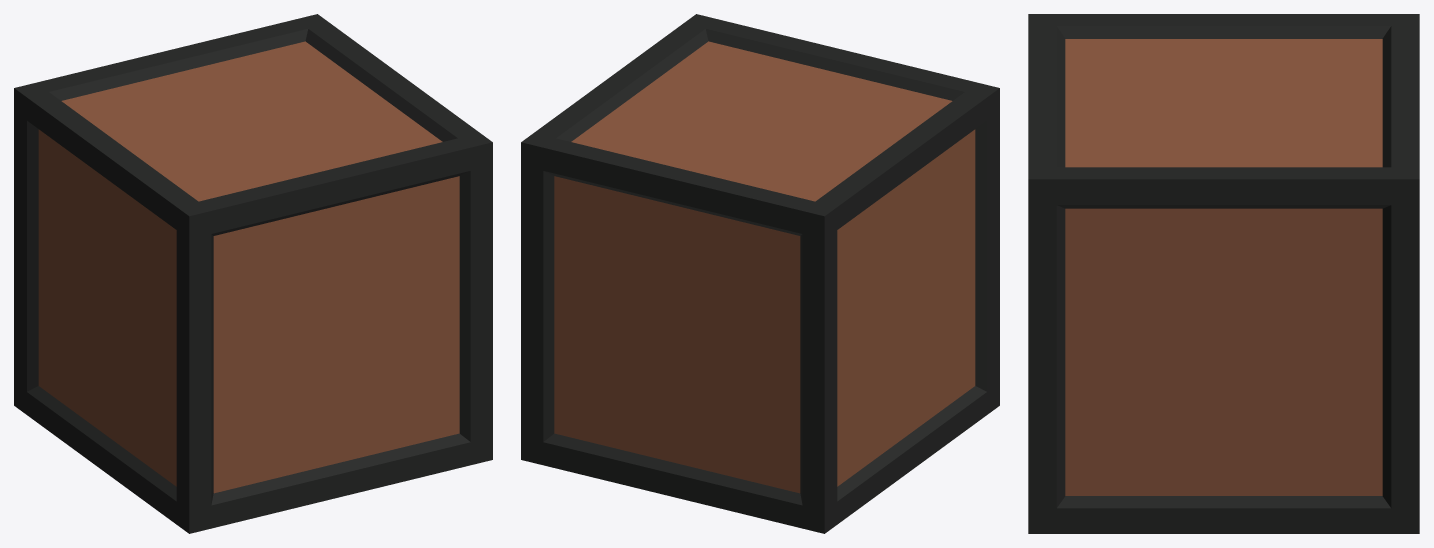
3 renders of one model, left to right at view 1: azimuth 30°, elevation 25°; view 2: azimuth 150°, elevation 25°; view 3: azimuth 270°, elevation 25°, orthographic. The views are drawn at different scales.
Parts seen in each view (by area): view 1: Box; view 2: Box; view 3: Box.
Boxes of the visible parts, x1,y1,x2,y2 form: Box: (14,14,492,533); Box: (521,14,999,533); Box: (1028,14,1419,533).
Size of the model in its own units: 2 by 2 by 2.
